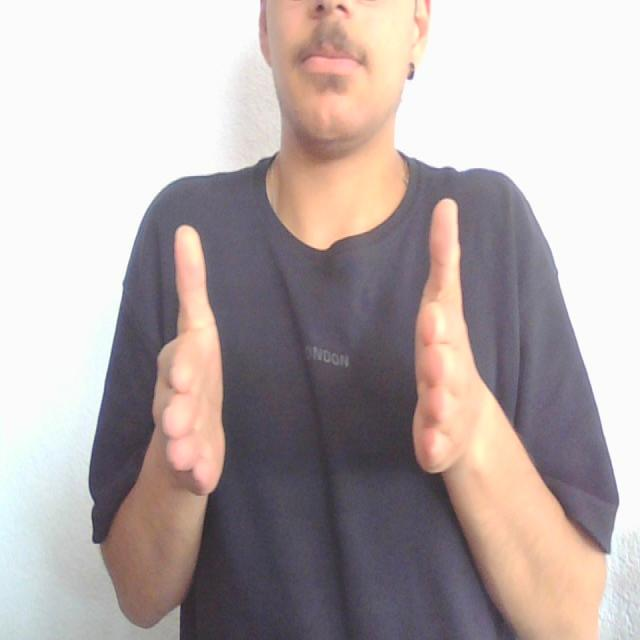Nasil: (112, 182, 496, 506)
